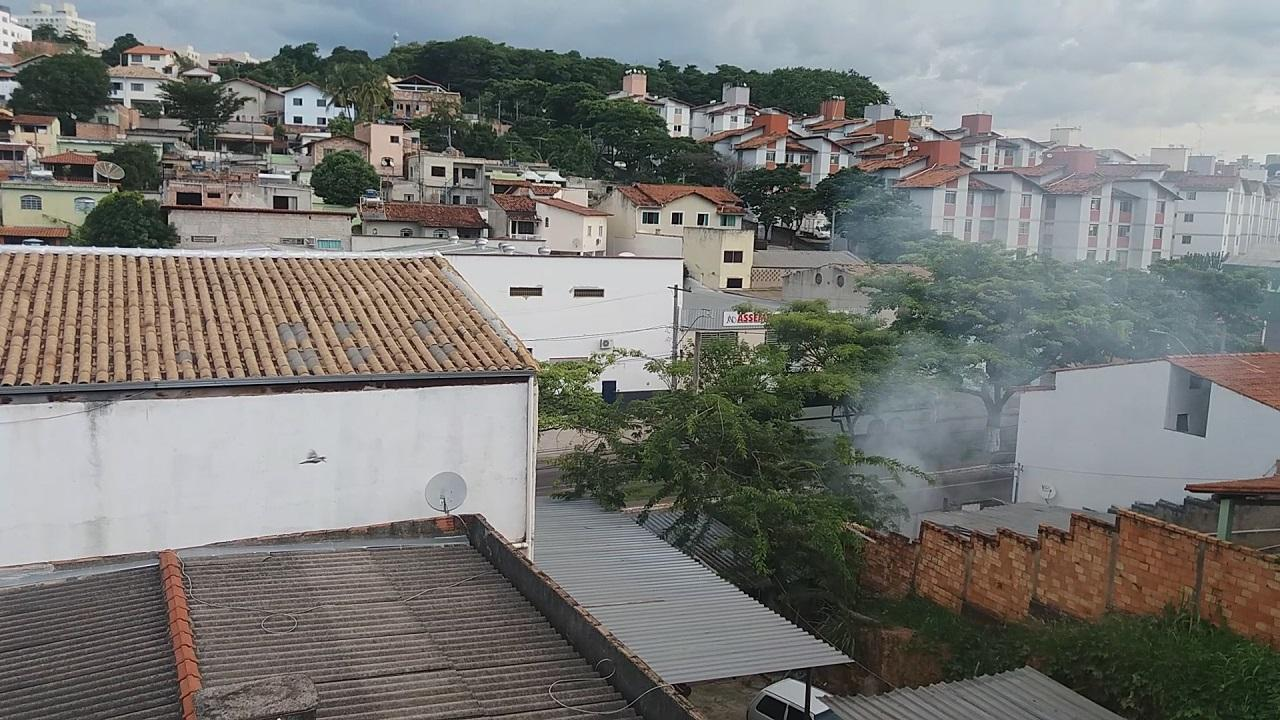smoke: (874, 406, 958, 488)
